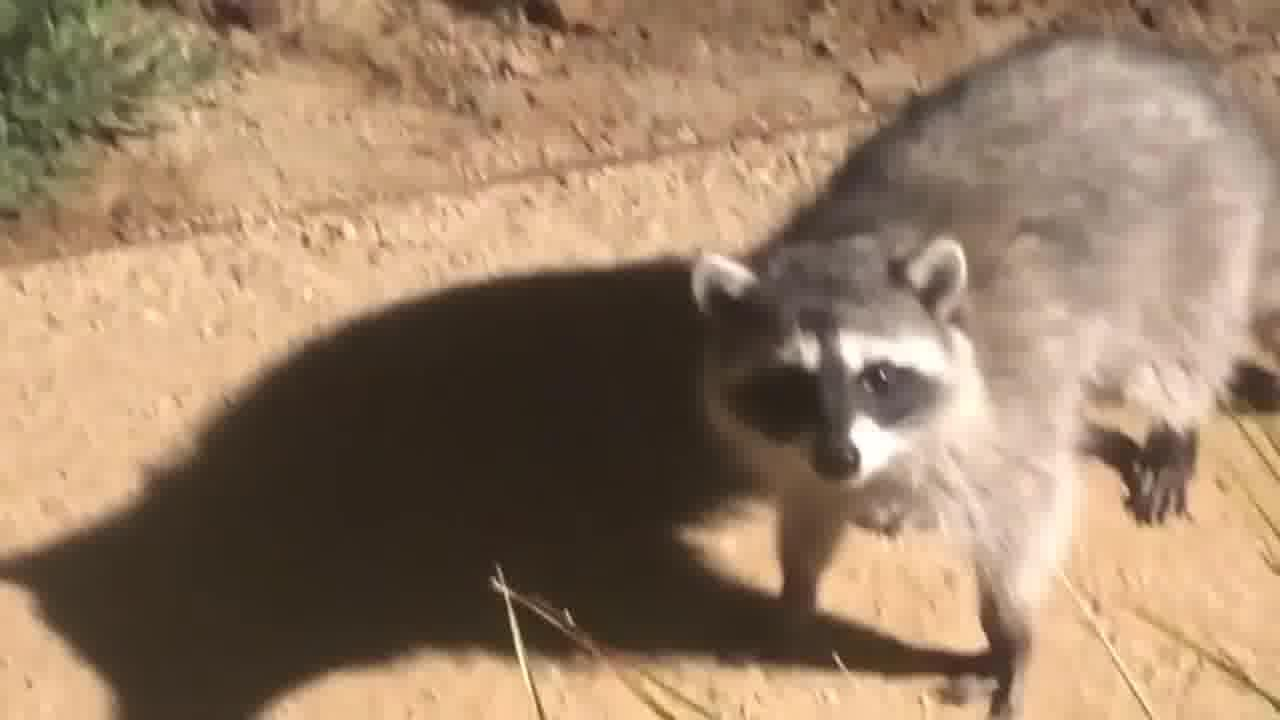raccoon: (682, 12, 1280, 720)
